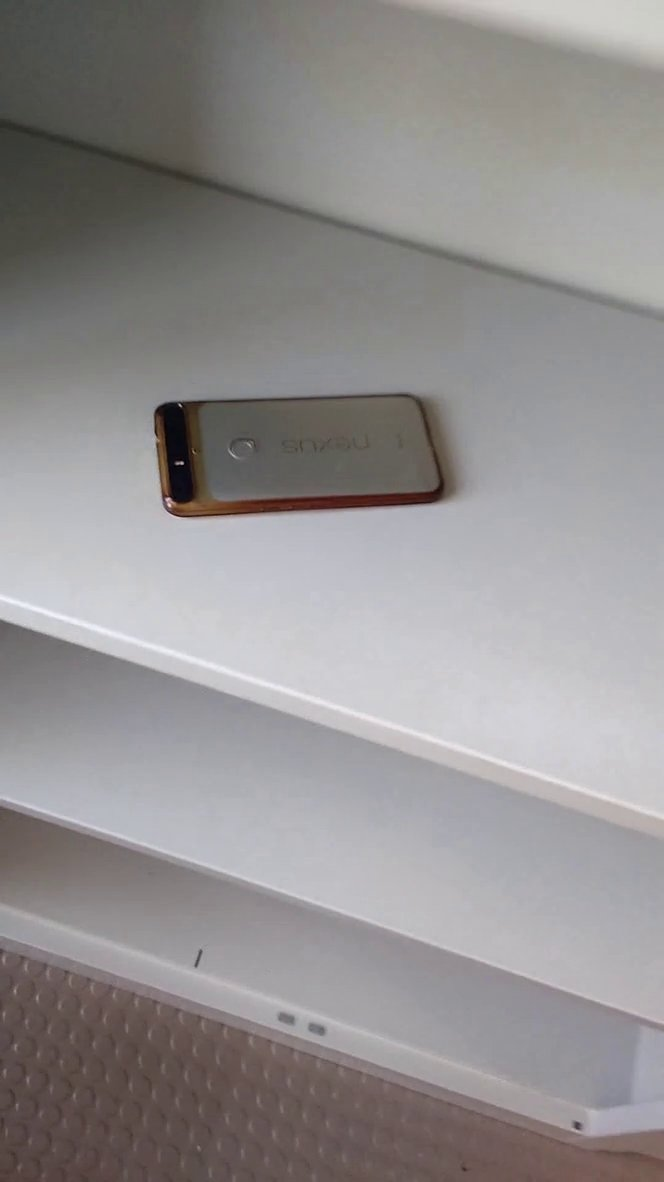phone: (146, 378, 459, 529)
